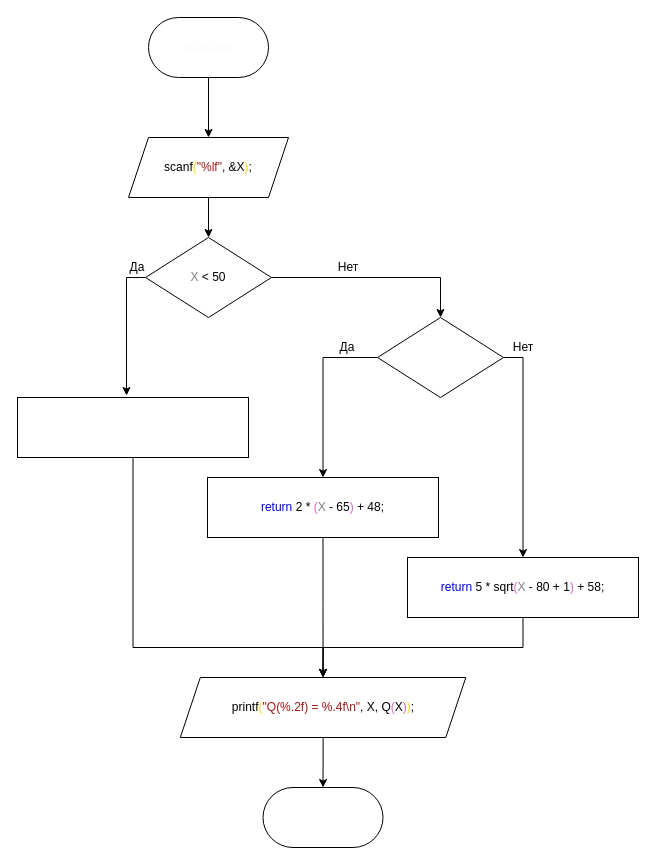
Image size: 656x865. Some labels were removed from this diagram. Each missing label, with the centre of its shape:
return 3 * log ( X - 50 + 2 ) + 10;: (132,427)
X <= 80: (440,357)
Конец: (322,817)
